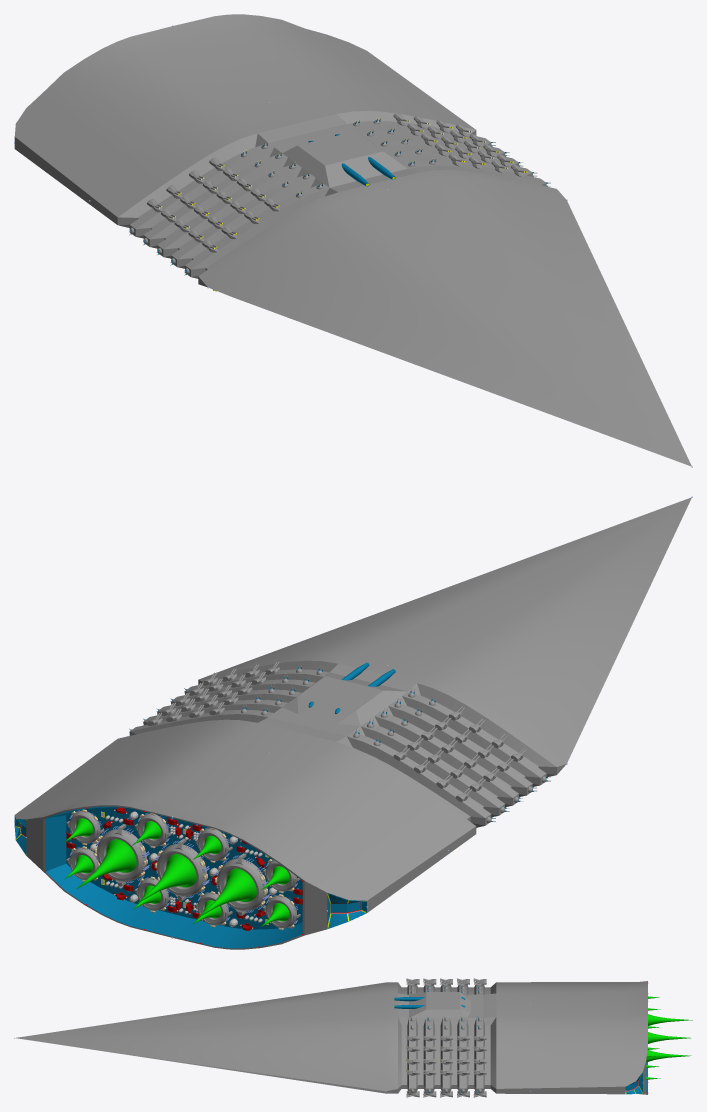
File: Battleship.fbx
3 views of the same model, one above another, from view 1: azimuth 30°, elevation 25°; view 2: azimuth 150°, elevation 25°; view 3: azimuth 270°, elevation 25° (orthographic). The views are drawn at different scales.
Visible parts, largest first — view 1: Battleship; view 2: Battleship; view 3: Battleship.
Part boxes in pixels (x1,y1,x2,y2): Battleship: [14, 14, 692, 467]; Battleship: [14, 496, 692, 949]; Battleship: [14, 978, 692, 1097].
Size of the model in its own units: 7187 by 2293 by 18889.
